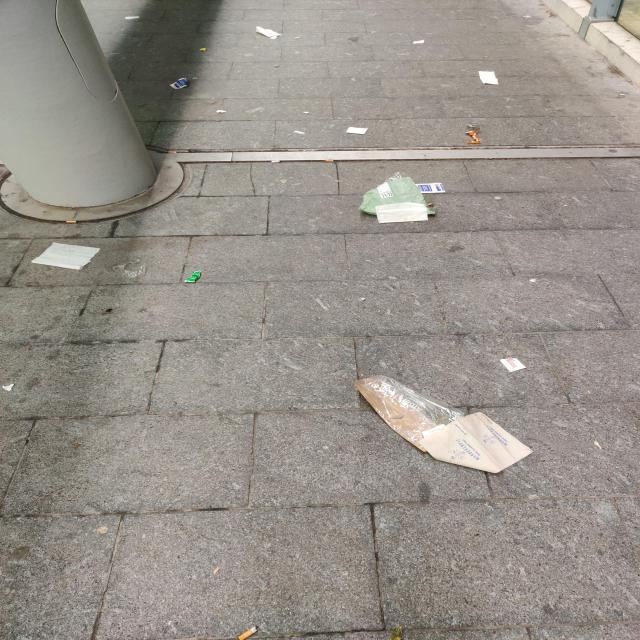litter: (354, 375, 465, 452), (419, 412, 533, 474), (357, 177, 435, 216), (31, 242, 101, 270), (375, 202, 428, 224), (120, 259, 146, 278), (378, 172, 408, 186), (499, 358, 527, 372), (255, 26, 283, 39), (416, 183, 446, 194), (239, 625, 259, 640), (478, 71, 499, 84), (169, 78, 188, 90), (465, 131, 482, 144), (185, 271, 202, 283), (345, 127, 369, 135), (2, 383, 14, 392), (125, 16, 141, 20), (412, 40, 425, 44), (293, 130, 305, 134), (66, 220, 78, 223), (521, 15, 533, 18), (216, 110, 227, 113), (271, 160, 280, 163), (200, 48, 206, 51), (326, 160, 335, 162), (483, 56, 489, 59), (169, 151, 177, 153), (304, 111, 309, 114)
